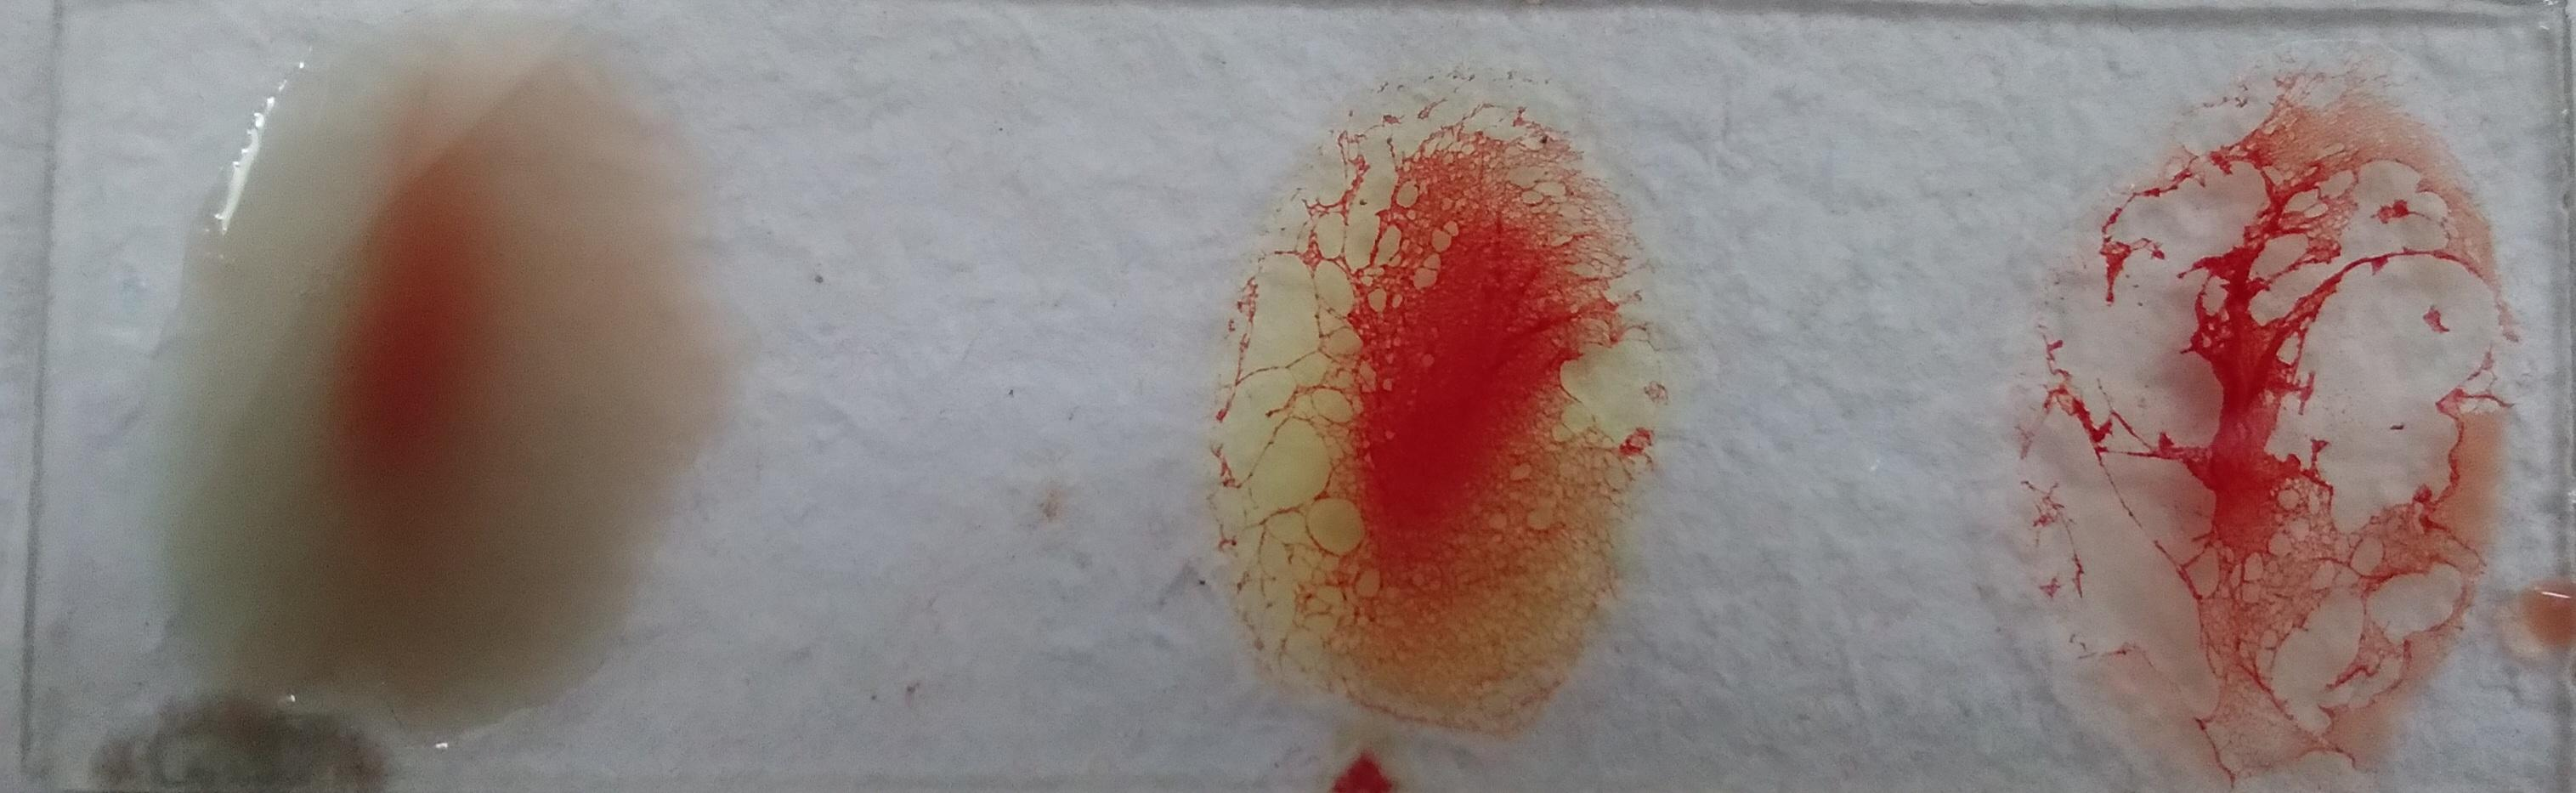B: (927, 62, 1355, 716)
D: (53, 13, 565, 737)
